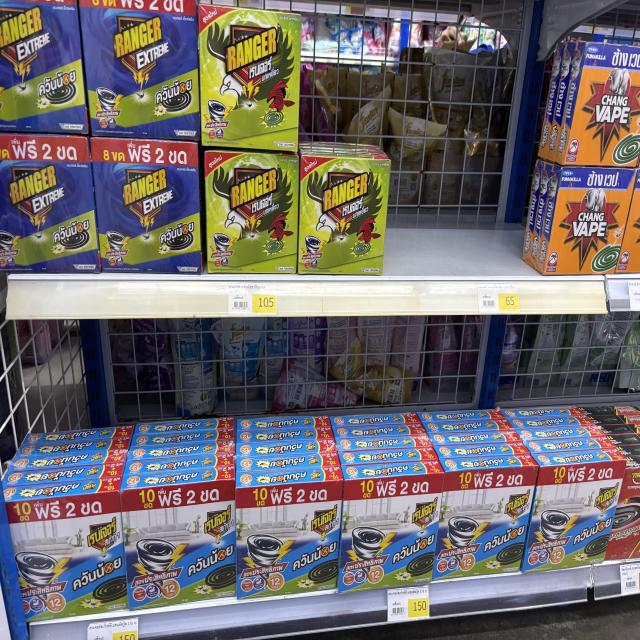empty_shelf: (2, 312, 625, 498), (384, 21, 563, 278), (300, 15, 395, 157)
